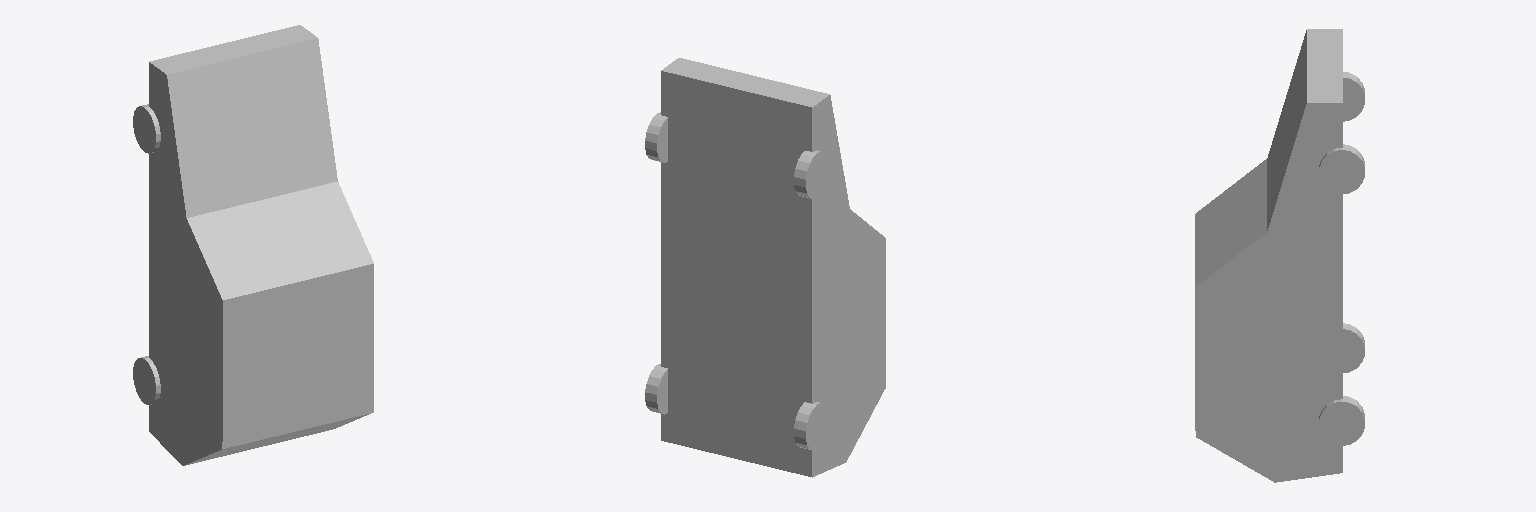
File: Car.obj
3 views of the same model, side by side, from view 1: azimuth 30°, elevation 25°; view 2: azimuth 150°, elevation 25°; view 3: azimuth 270°, elevation 25° (orthographic).
Visible parts, largest first — view 1: CAR_01; view 2: CAR_01; view 3: CAR_01.
Part boxes in pixels (bbox=[...]): CAR_01: bbox=[133, 25, 373, 465]; CAR_01: bbox=[645, 58, 885, 477]; CAR_01: bbox=[1195, 29, 1364, 482].
Size of the model in its own units: 0.3481 by 0.7851 by 0.3187.